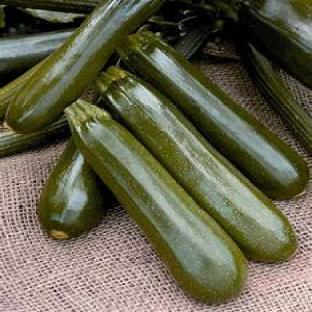Zucchini: (96, 68, 297, 262), (66, 100, 246, 302), (118, 33, 309, 198), (242, 43, 311, 153), (39, 141, 109, 239), (0, 31, 71, 75), (0, 117, 69, 158), (0, 61, 43, 119)
